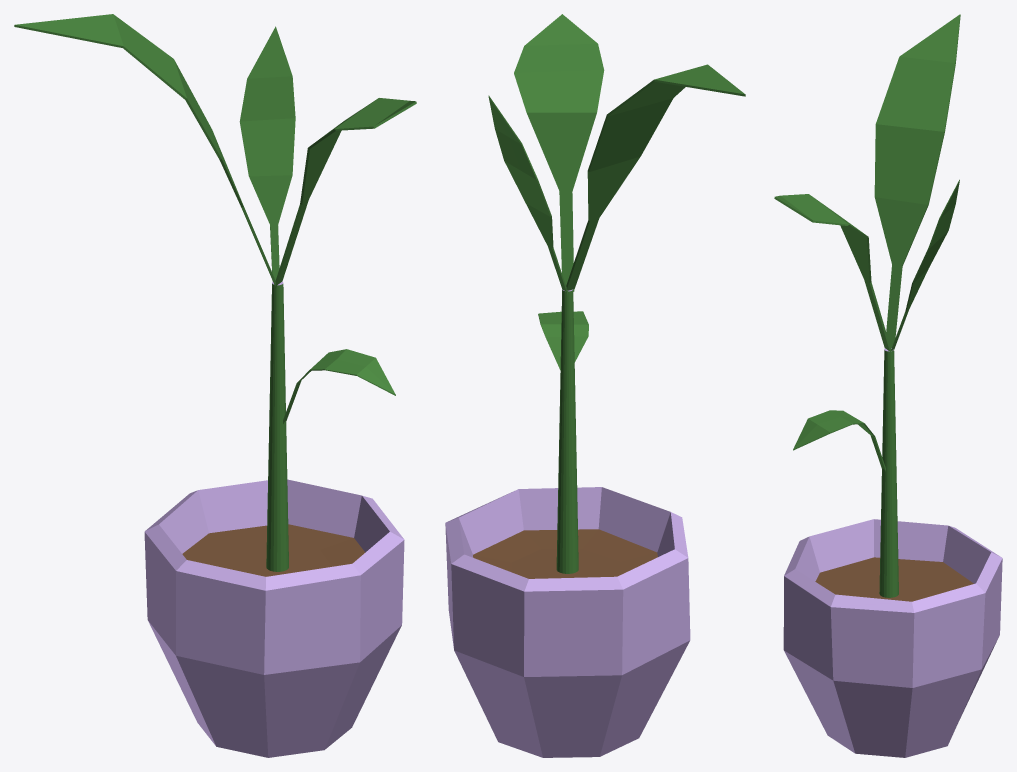
File: Flower_10.fbx
3 renders of one model, left to right at view 1: azimuth 30°, elevation 25°; view 2: azimuth 150°, elevation 25°; view 3: azimuth 270°, elevation 25°, orthographic. The views are drawn at different scales.
Visible parts, largest first — view 1: Flower_10; view 2: Flower_10; view 3: Flower_10.
Part boxes in pixels (x1,y1,x2,y2): Flower_10: [14, 14, 416, 757]; Flower_10: [445, 14, 745, 757]; Flower_10: [774, 14, 1002, 757].
Bounding box in the file's own units: 103 × 71.21 × 215.
